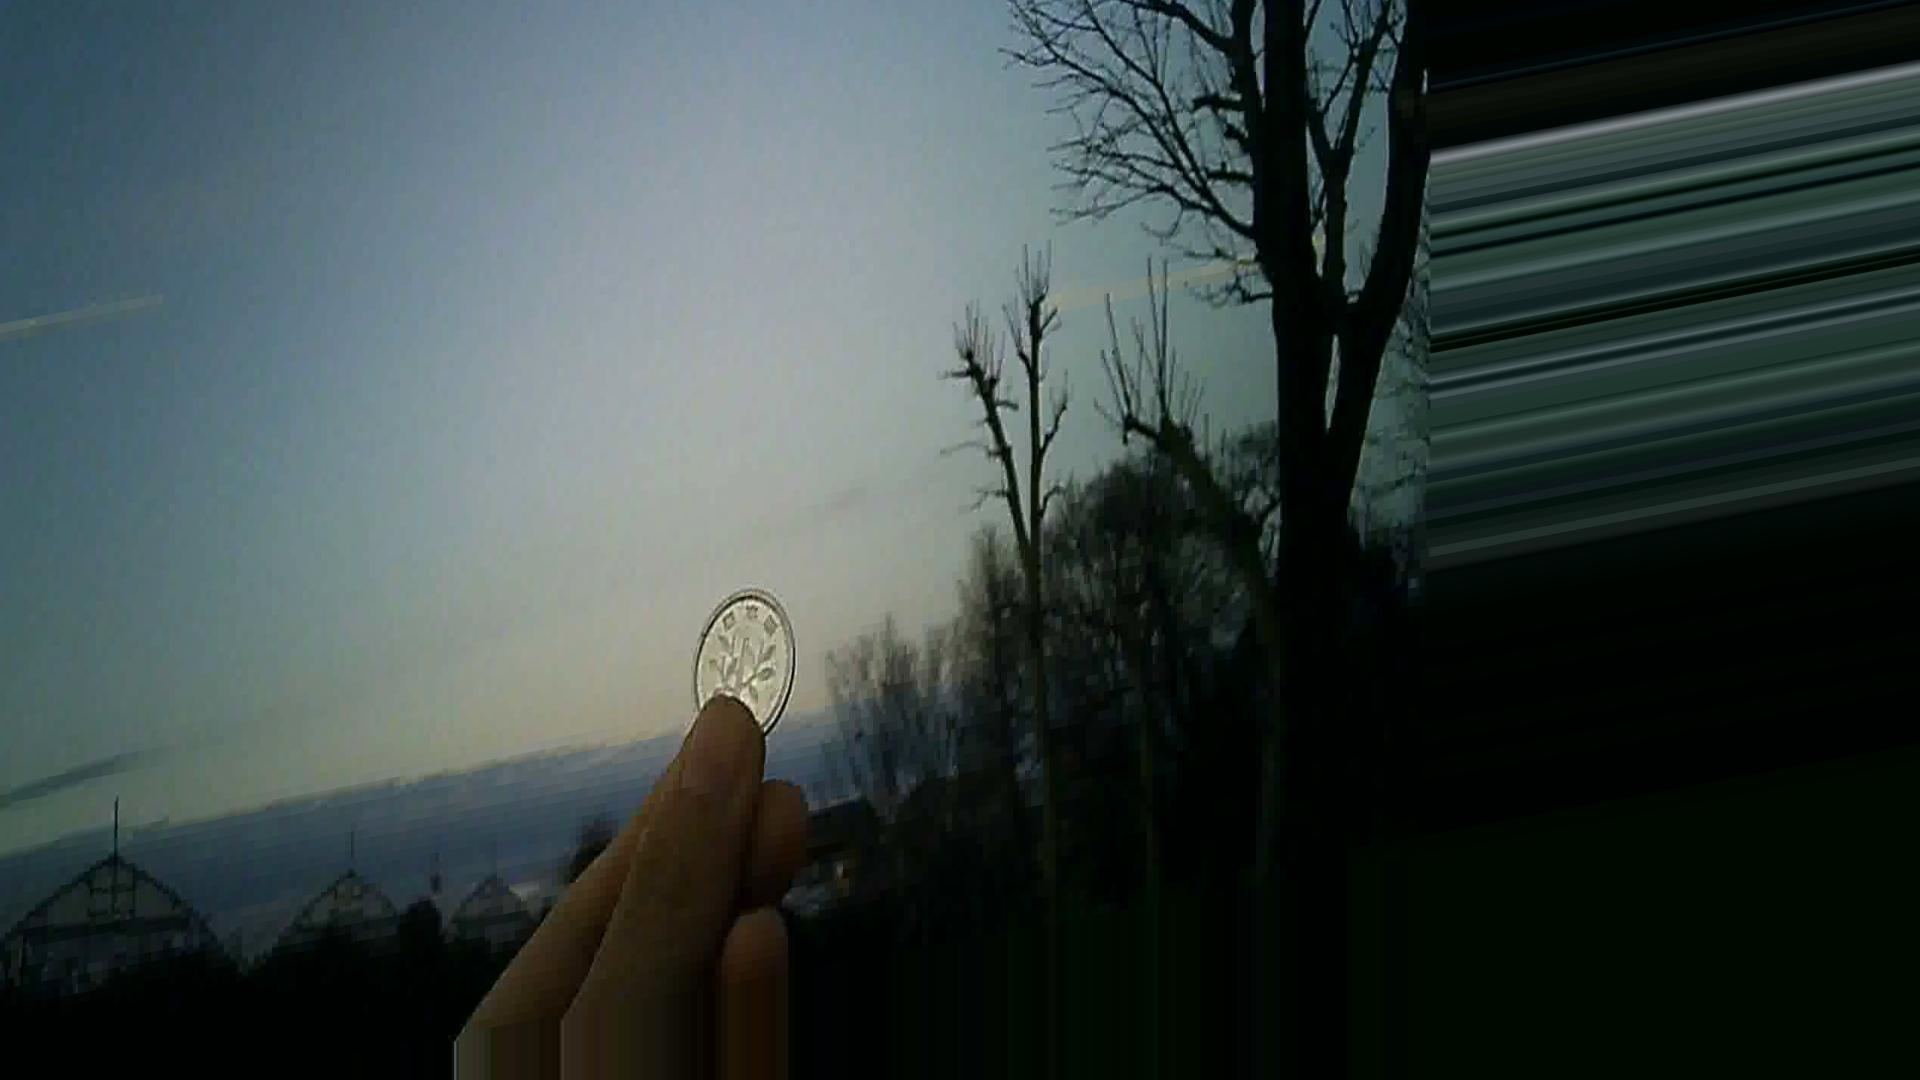1 Yen: (682, 584, 810, 757)
